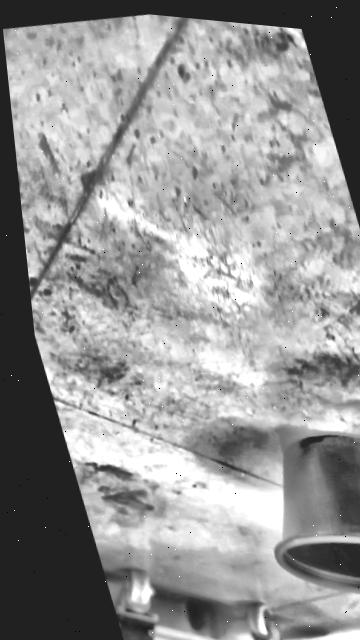pot: (238, 411, 360, 619)
